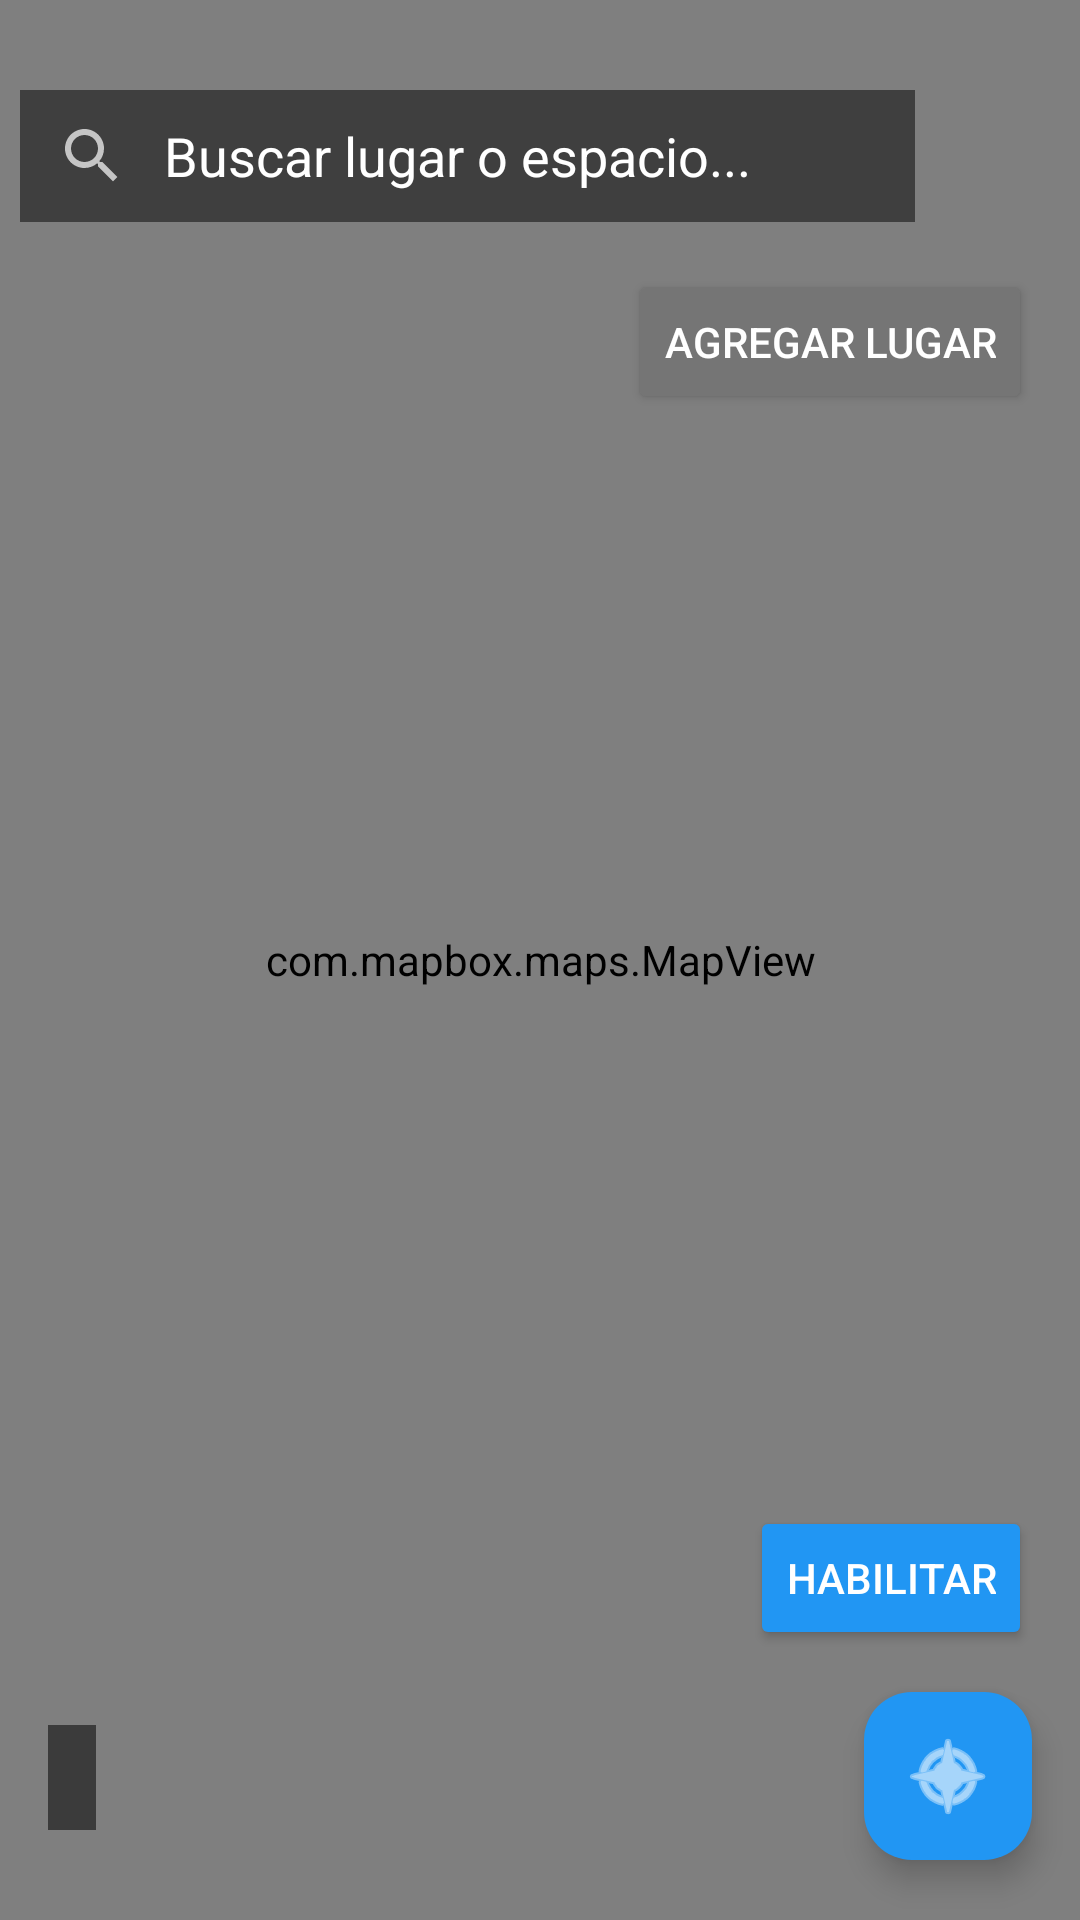

Screen size 1080px×1920px. Icon name, then its center in pixels as [x,y]:
compass: [948,1776]
